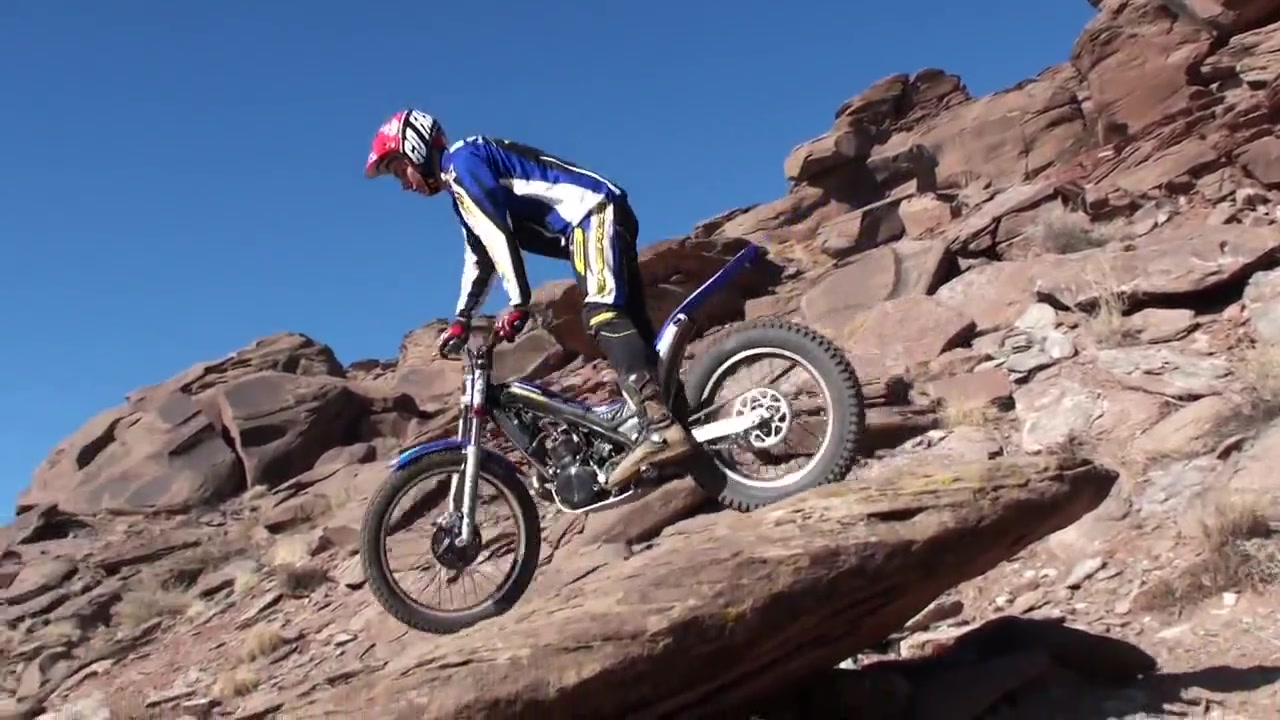motorbike: (361, 247, 865, 635)
